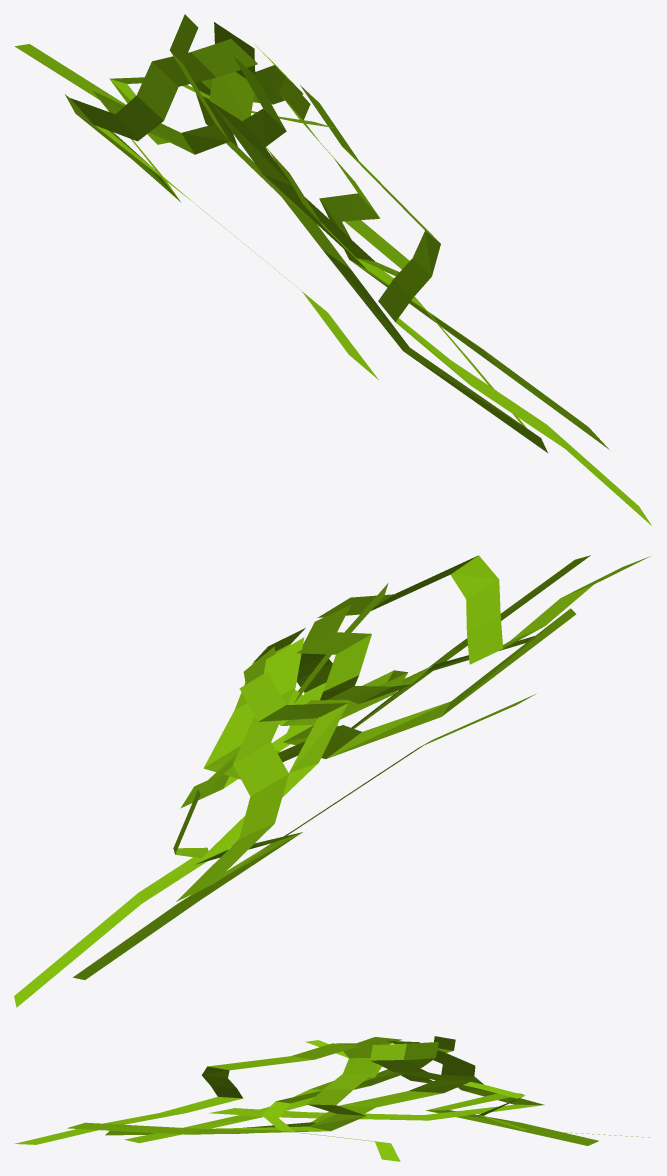
Rendered from grass.obj.
3 renders of one model, top to bottom at view 1: azimuth 30°, elevation 25°; view 2: azimuth 150°, elevation 25°; view 3: azimuth 270°, elevation 25°, orthographic. The views are drawn at different scales.
Parts seen in each view (by area): view 1: Hair.1; view 2: Hair.1; view 3: Hair.1.
Part boxes in pixels (x1,y1,x2,y2): Hair.1: (15,14,651,525); Hair.1: (14,555,650,1007); Hair.1: (14,1036,649,1161).
Bounding box in the file's own units: 47.94 × 53.31 × 301.
